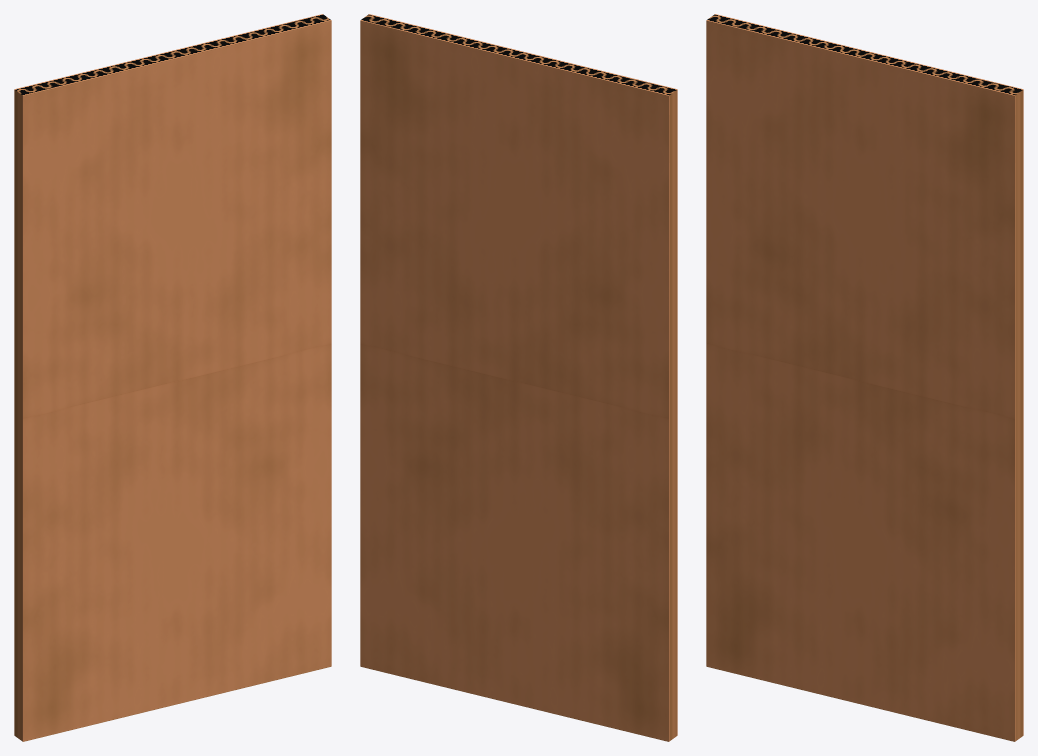
The model's file is M_CardboardPanels_1x2.fbx.
3 views of the same model, side by side, from view 1: azimuth 30°, elevation 25°; view 2: azimuth 150°, elevation 25°; view 3: azimuth 330°, elevation 25° (orthographic).
Visible parts, largest first — view 1: Panels, Edges; view 2: Panels, Edges; view 3: Panels, Edges.
Boxes of the visible parts, x1,y1,x2,y2 form: Panels: (23,20,331,741); Edges: (14,14,331,741); Panels: (360,20,668,741); Edges: (360,14,677,741); Panels: (706,20,1014,741); Edges: (706,14,1023,741).
Bounding box in the file's own units: 5 × 10 × 0.25.
1 material, 1 textured.
